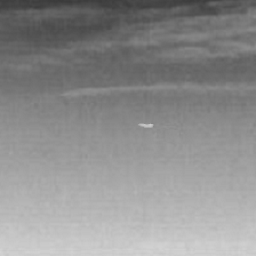Target: (136, 122, 155, 130)
